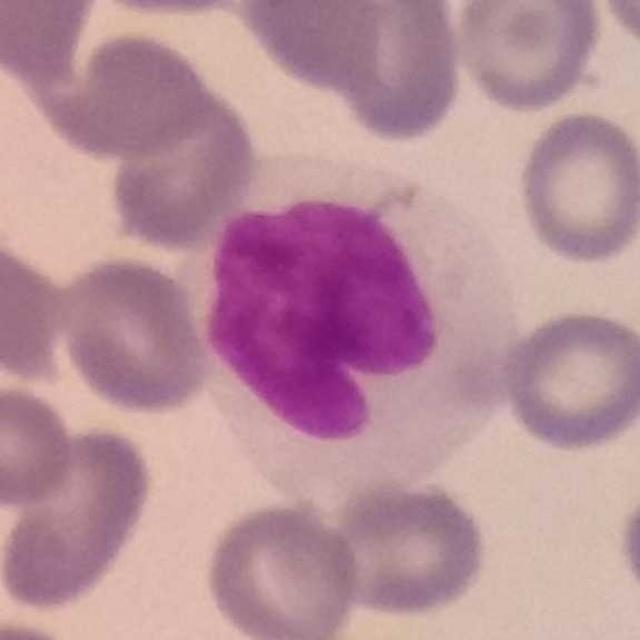mono: (174, 146, 538, 516)
